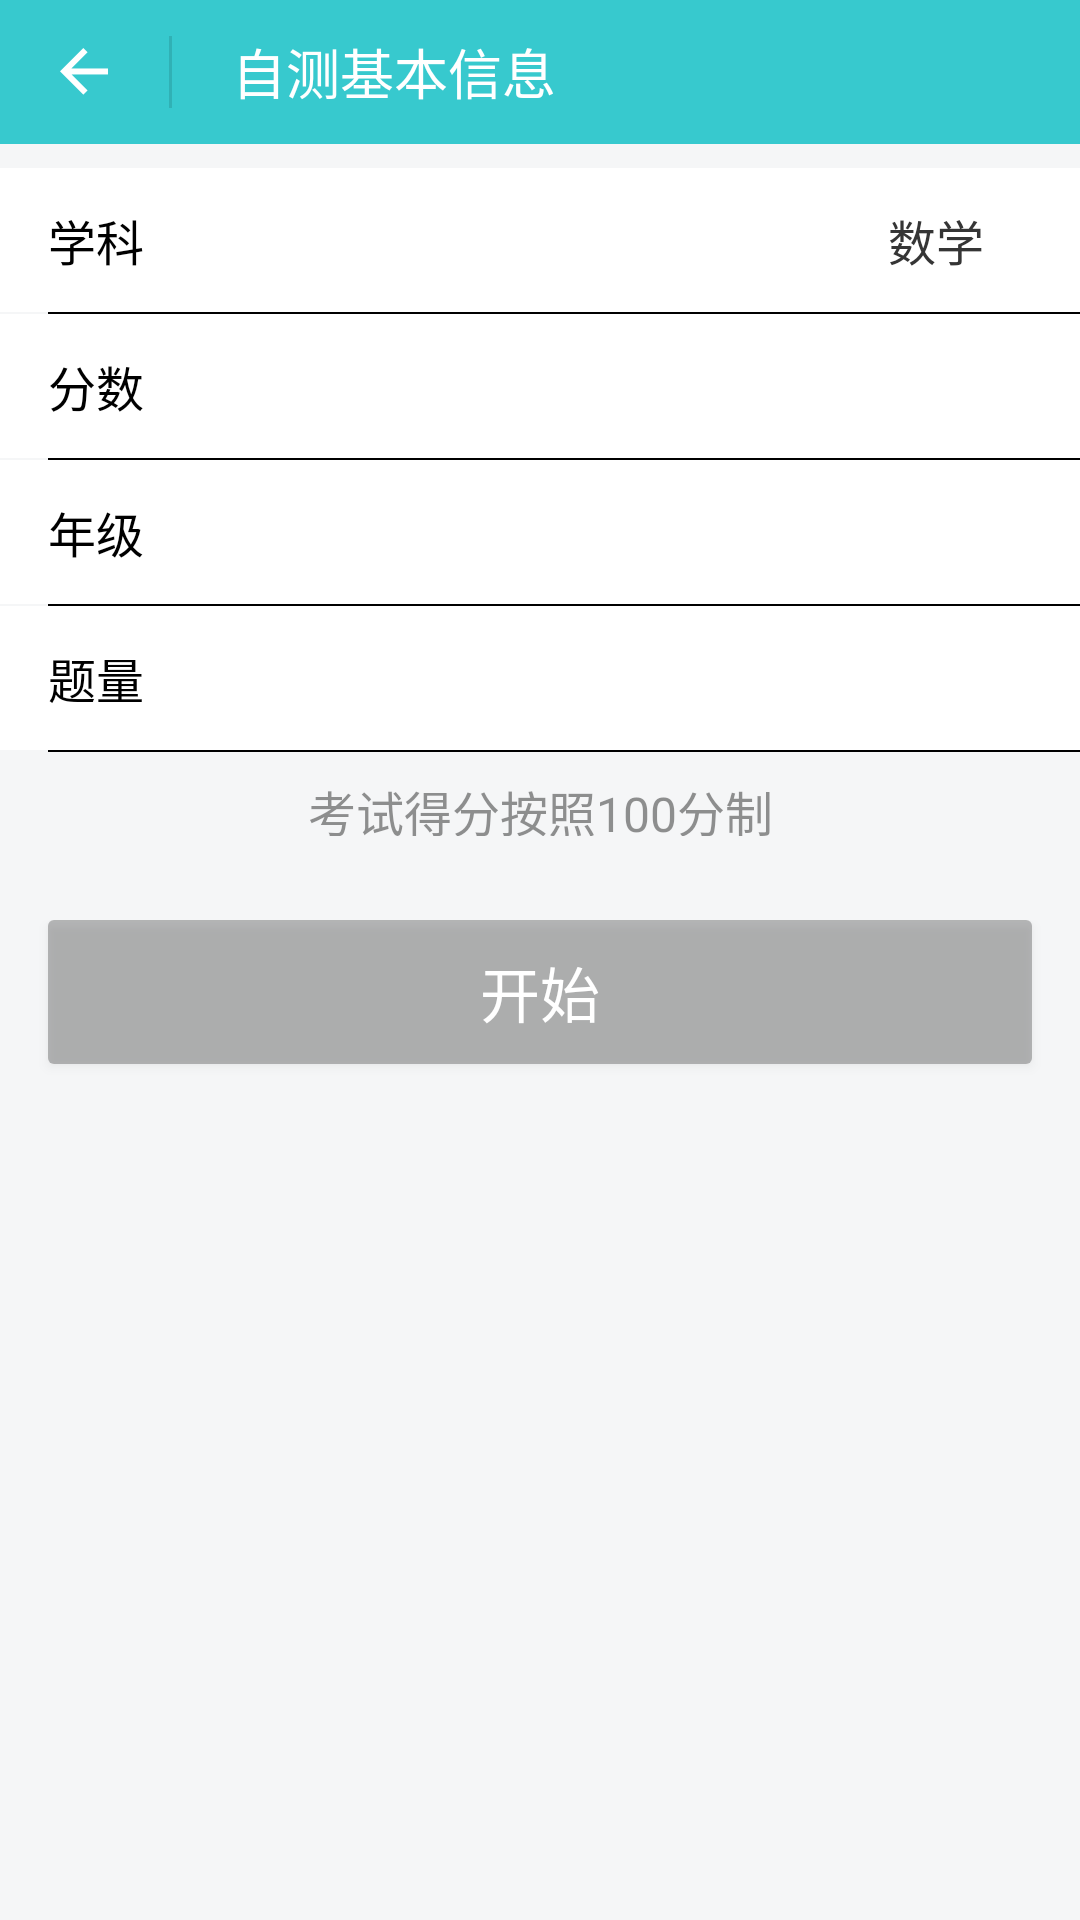

Where icons sit on this 1080×1920 app screen, as bbox=(x1, y1, x2, y2):
exit: bbox=(60, 48, 108, 95)
